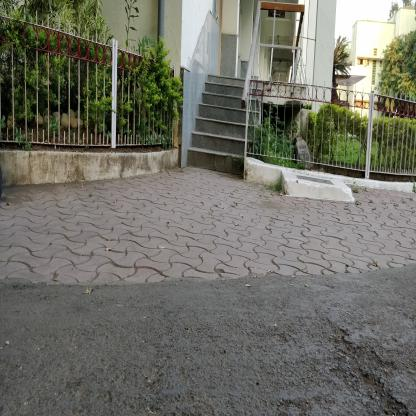stairs: (188, 101, 244, 181)
